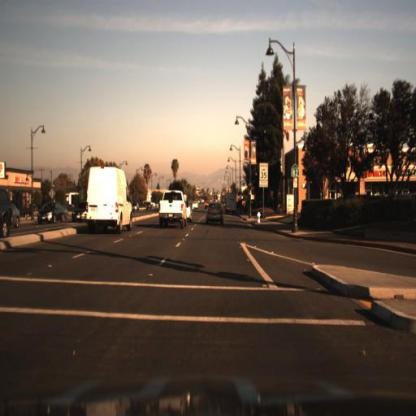car: (77, 147, 139, 243), (156, 182, 190, 222), (38, 200, 69, 226), (1, 192, 20, 234), (71, 197, 91, 228), (224, 185, 241, 213), (207, 204, 223, 231), (73, 201, 88, 223)
truck: (83, 166, 138, 236), (225, 190, 239, 216)
